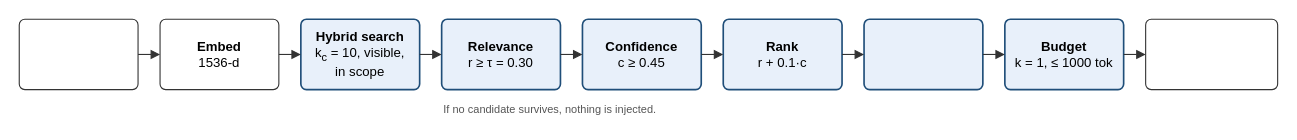
Image size: 1297x140. Some labels were removed from this diagram. The shapes that lost their labels are listed below. From the top down, each one's centre as x and y in pixels, then its label:
At pixel 78 54: "Query task + tech tags".
At pixel 923 54: "Dedupe same family or sim ≥ 0.85".
At pixel 1211 54: "Context block + injection ledger".
